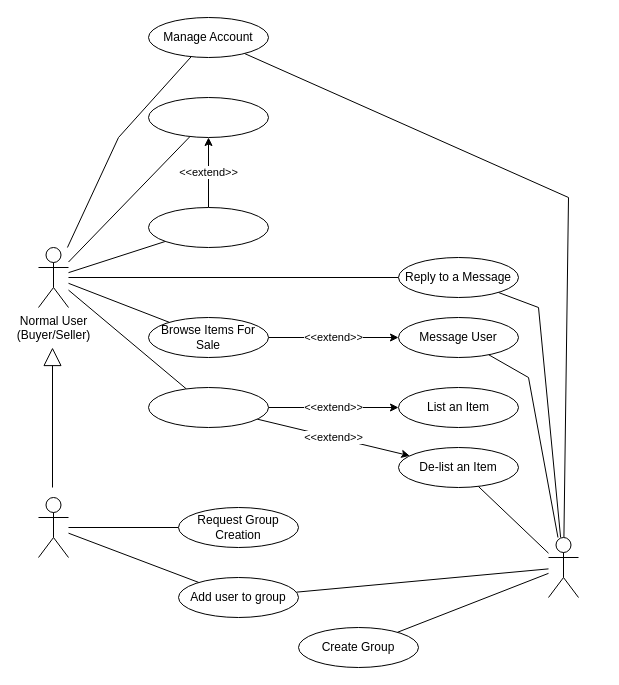
Some shapes in this 619 by 685 pixel diagram are drawn without their labels. The shapes that lost their labels are listed below. From the top down, each one's centre as x and y in pixels, then its label:
At point (208, 117): "Register Account".
At point (208, 227): "Edit Profile".
At point (208, 407): "Manage Items for Sale".
At point (53, 527): "Group Admin".
At point (563, 567): "System Admin".
